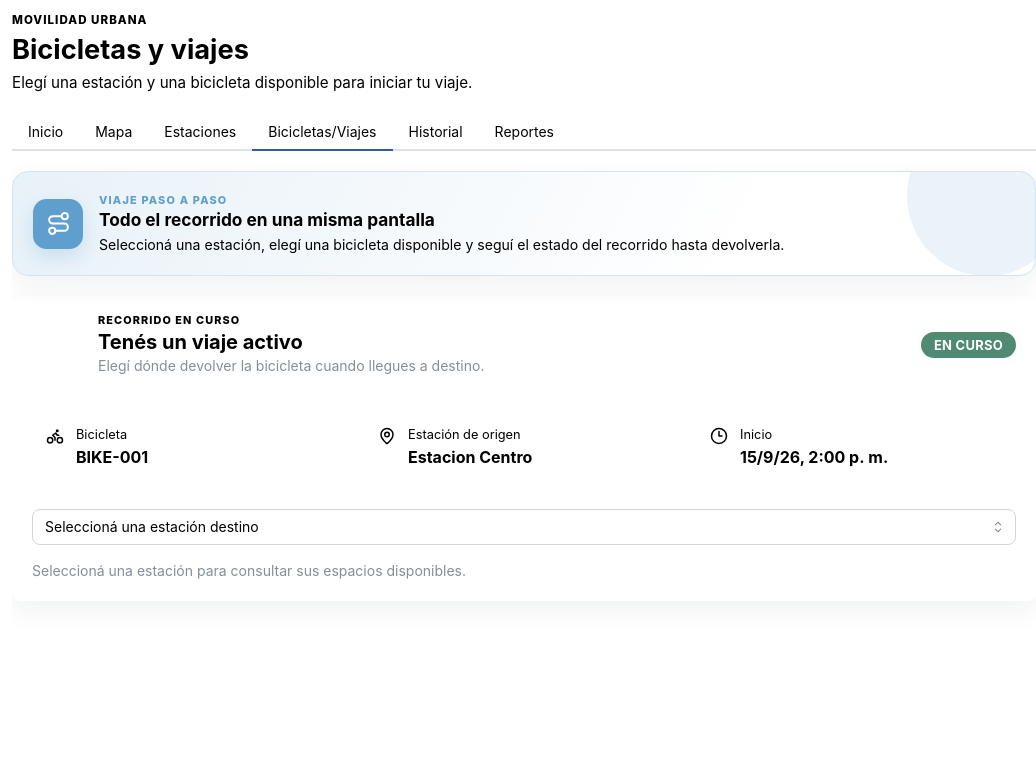
Test case: BicyclesPage › consulta la disponibilidad al seleccionar una estación destino
The image size is (1036, 780).
Select "Estacion Centro - Av. Corrientes 100" in the dropdown named "Estación destino" at {"x": 524, "y": 527}, box [32,509,1016,545]
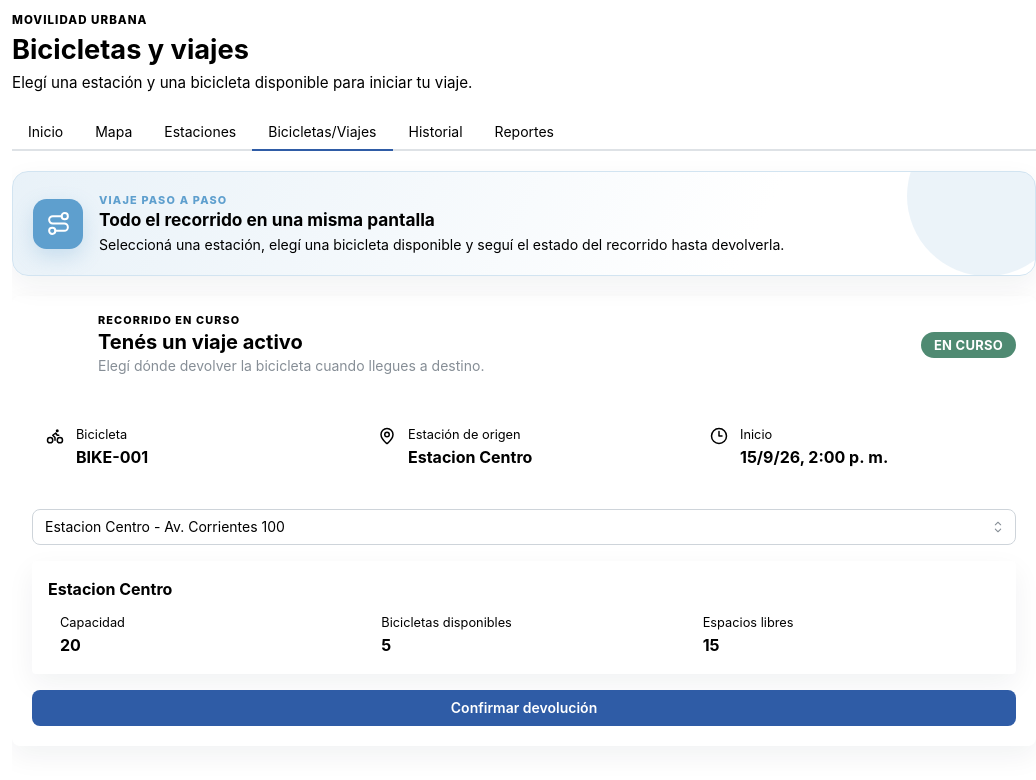
Check: the text "Espacios libres" is shown, box [703,615,794,630]
Check: the text "15" is shown, box [703,635,720,655]
Check: the button "Confirmar devolución" is enabled, box [32,690,1016,726]
